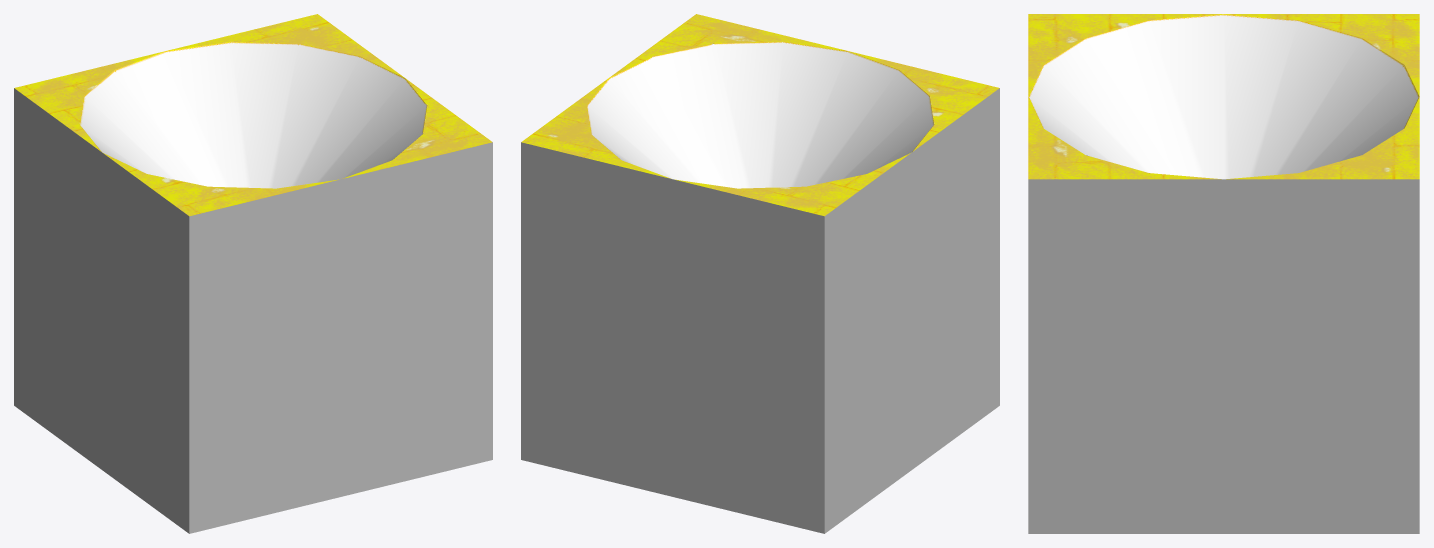
Rendered from Quicksand.FBX.
3 renders of one model, left to right at view 1: azimuth 30°, elevation 25°; view 2: azimuth 150°, elevation 25°; view 3: azimuth 270°, elevation 25°, orthographic. The views are drawn at different scales.
Visible parts, largest first — view 1: Box002, Cone001, Box001; view 2: Box002, Cone001, Box001; view 3: Box002, Cone001, Box001.
Part boxes in pixels (x1,y1,x2,y2): Box002: [14, 88, 492, 533]; Cone001: [79, 41, 427, 188]; Box001: [14, 14, 492, 216]; Box002: [521, 43, 999, 533]; Cone001: [586, 41, 934, 188]; Box001: [521, 14, 999, 216]; Box002: [1028, 179, 1419, 533]; Cone001: [1028, 14, 1419, 179]; Box001: [1028, 14, 1419, 179].
Bounding box in the file's own units: 39.37 × 39.37 × 39.37.
